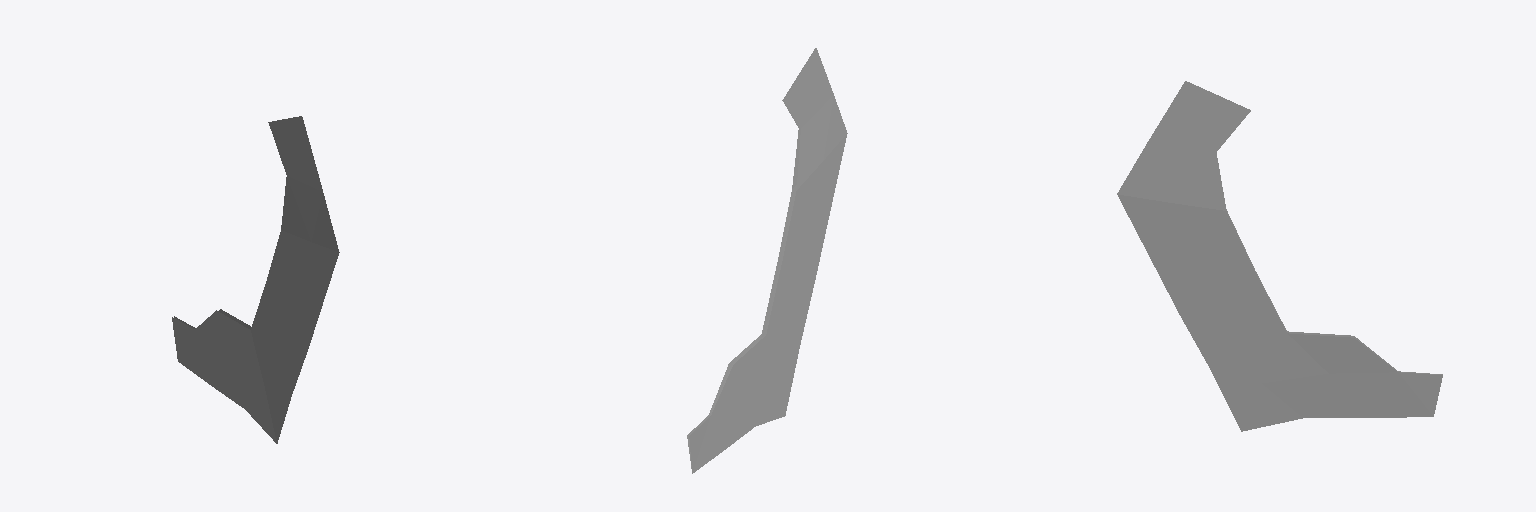
File: Plume.obj
3 views of the same model, side by side, from view 1: azimuth 30°, elevation 25°; view 2: azimuth 150°, elevation 25°; view 3: azimuth 270°, elevation 25° (orthographic).
Visible parts, largest first — view 1: wire_[number redacted].001; view 2: wire_[number redacted].001; view 3: wire_[number redacted].001.
Boxes of the visible parts, x1,y1,x2,y2 form: wire_[number redacted].001: [172, 116, 339, 443]; wire_[number redacted].001: [687, 48, 847, 473]; wire_[number redacted].001: [1117, 81, 1442, 431].
Bounding box in the file's own units: 0.3233 × 19.55 × 16.52.